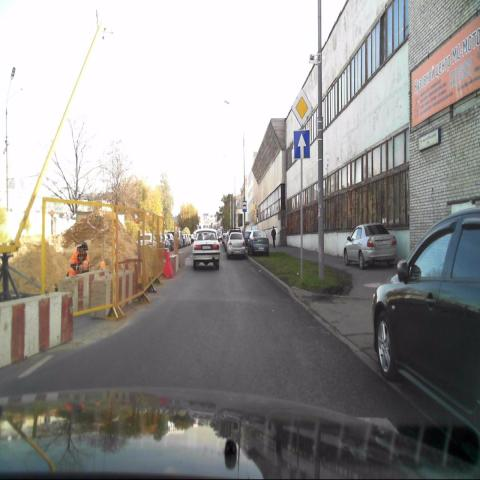5_5: (293, 130, 310, 159)
